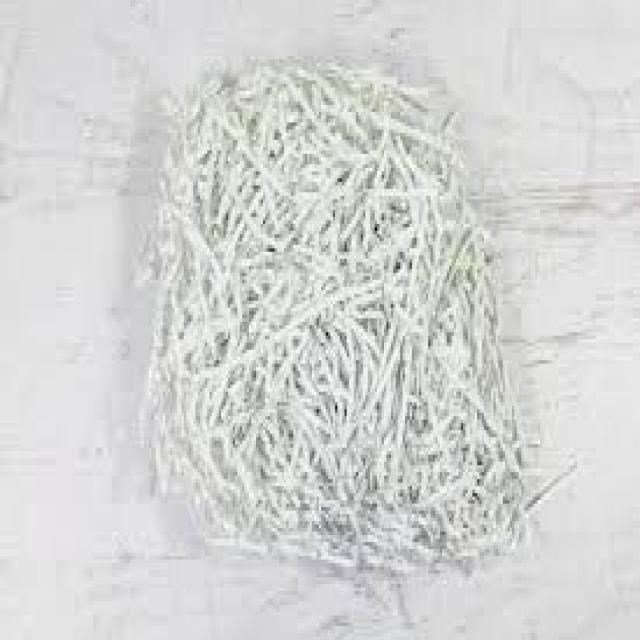paper: (144, 49, 526, 567)
